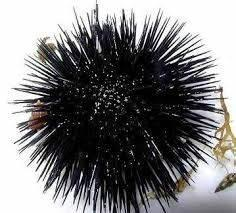urchin: (22, 11, 213, 206)
